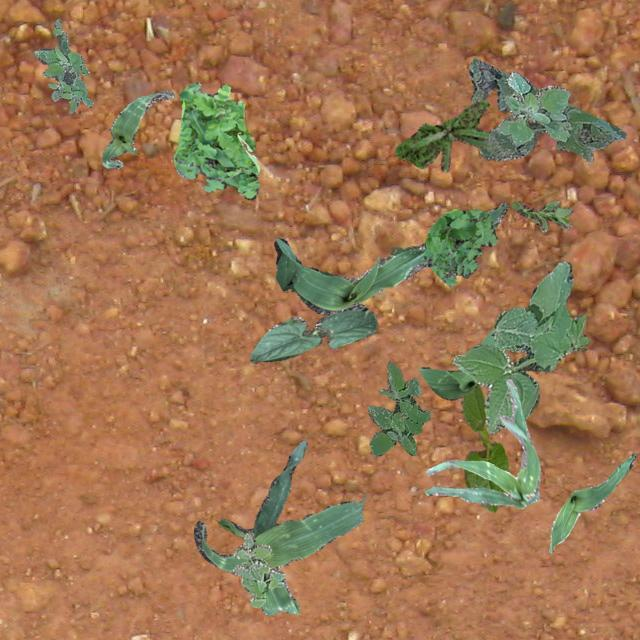crop: (192, 440, 364, 614), (274, 202, 508, 314), (422, 378, 540, 508), (548, 452, 634, 552), (250, 302, 376, 362), (418, 326, 504, 398), (460, 384, 508, 511), (100, 90, 172, 168)
weed: (452, 260, 588, 433), (468, 56, 626, 160), (172, 82, 258, 198), (394, 98, 489, 170), (366, 360, 429, 456), (422, 208, 497, 284), (32, 18, 92, 112), (496, 70, 570, 144), (232, 530, 284, 606), (511, 200, 572, 230)
